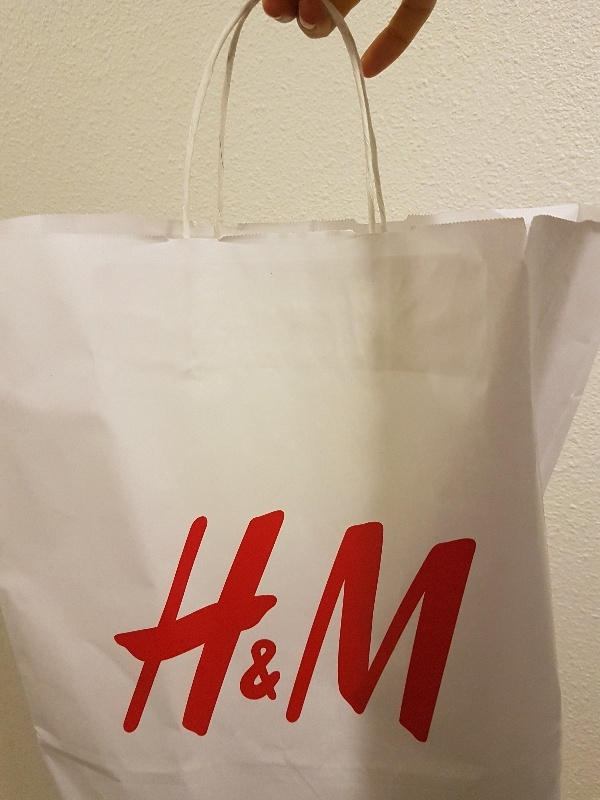text: (161, 507, 176, 747), (177, 507, 192, 747), (193, 507, 208, 747), (209, 507, 224, 747), (225, 507, 240, 747), (241, 507, 256, 747), (257, 507, 272, 747), (273, 507, 288, 747), (289, 507, 304, 747), (305, 507, 320, 747), (321, 507, 336, 747), (337, 507, 352, 747), (353, 507, 368, 747), (369, 507, 384, 747), (385, 507, 400, 747), (401, 507, 416, 747), (417, 507, 432, 747), (433, 507, 448, 747), (449, 507, 464, 747), (465, 507, 480, 747), (481, 507, 485, 747), (157, 507, 160, 747)
